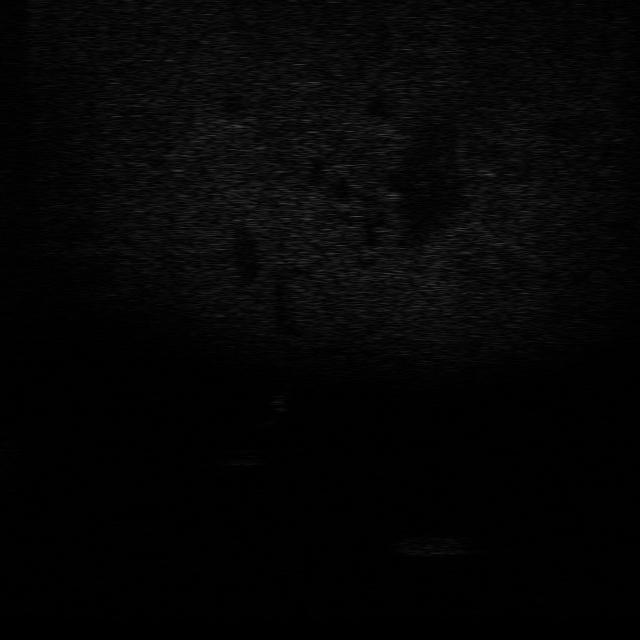ball: (218, 444, 268, 468)
circle cage: (390, 530, 476, 561)
human body: (261, 381, 294, 428)
